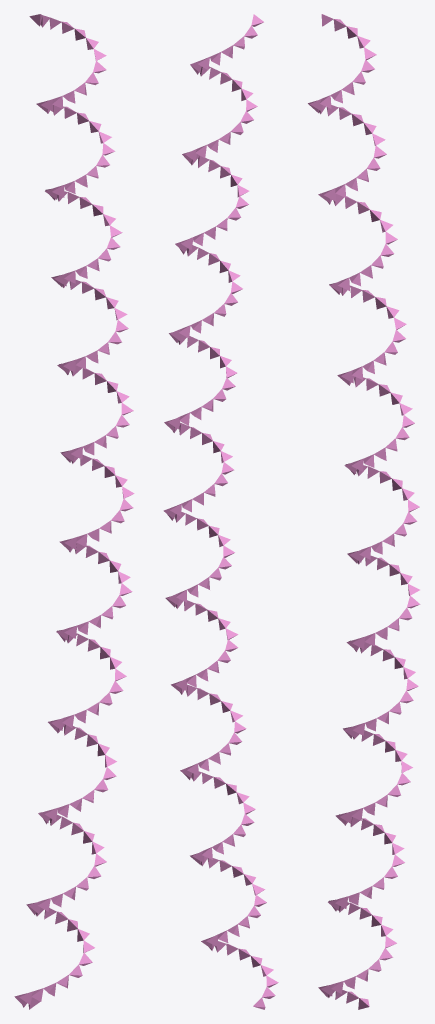
The model's file is customMassing_mRNA_240712.fbx.
The picture shows the model from 3 angles, left to right: view 1: azimuth 30°, elevation 25°; view 2: azimuth 210°, elevation 25°; view 3: azimuth 330°, elevation 25°; orthographic projection. The views are drawn at different scales.
Parts seen in each view (by area): view 1: mRNA_ForExport; view 2: mRNA_ForExport; view 3: mRNA_ForExport.
Part boxes in pixels (x1,y1,x2,y2): mRNA_ForExport: (14, 14, 134, 1009); mRNA_ForExport: (163, 14, 278, 1009); mRNA_ForExport: (308, 14, 420, 1009).
Bounding box in the file's own units: 18.36 × 176 × 16.58.
